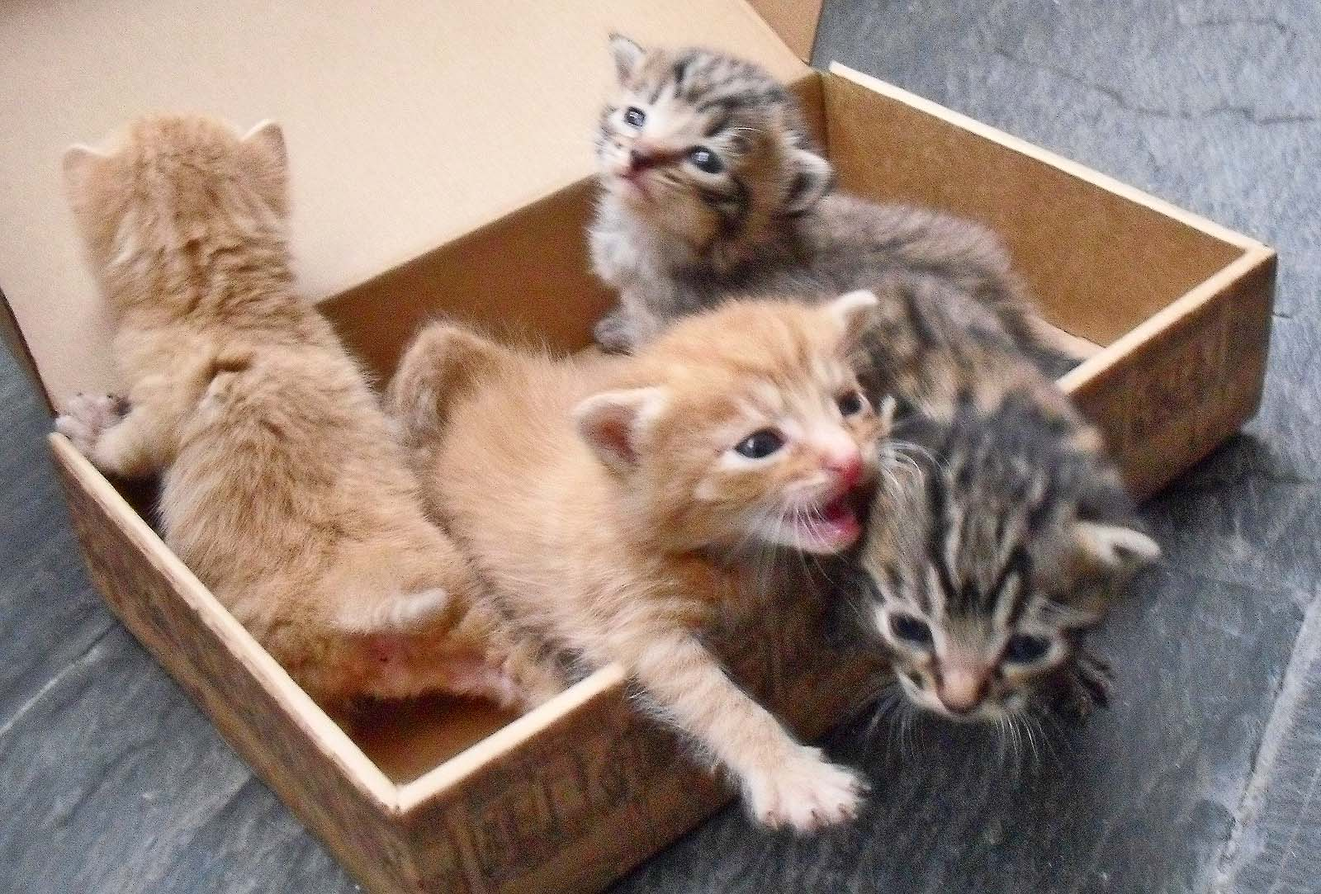cat: (391, 272, 945, 844), (49, 105, 534, 734), (594, 26, 1095, 377), (832, 279, 1158, 768)
